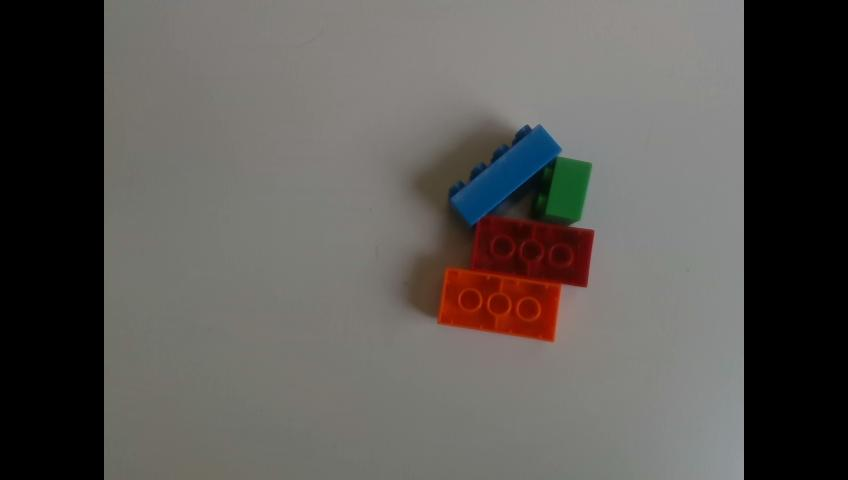2x2_green: (532, 155, 594, 225)
4x2_blue: (448, 124, 564, 232)
4x2_orange: (437, 266, 561, 345)
4x2_red: (472, 215, 595, 286)
